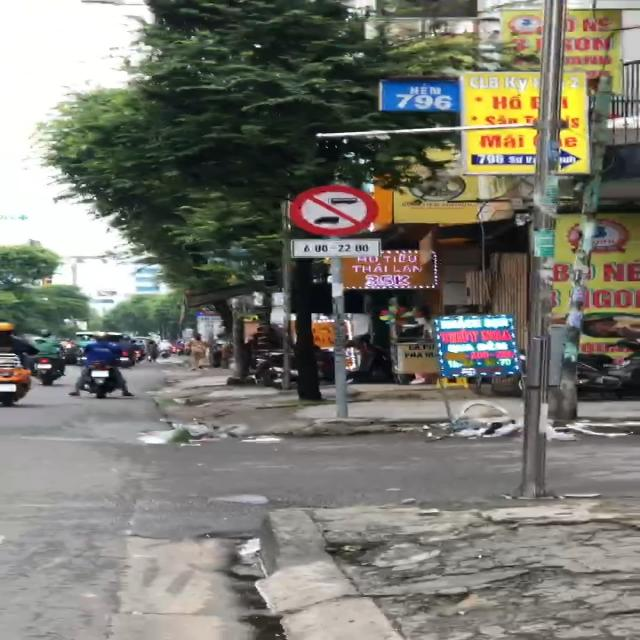Bien bao cam xe oto khach va xe oto tai: (281, 181, 386, 240)
